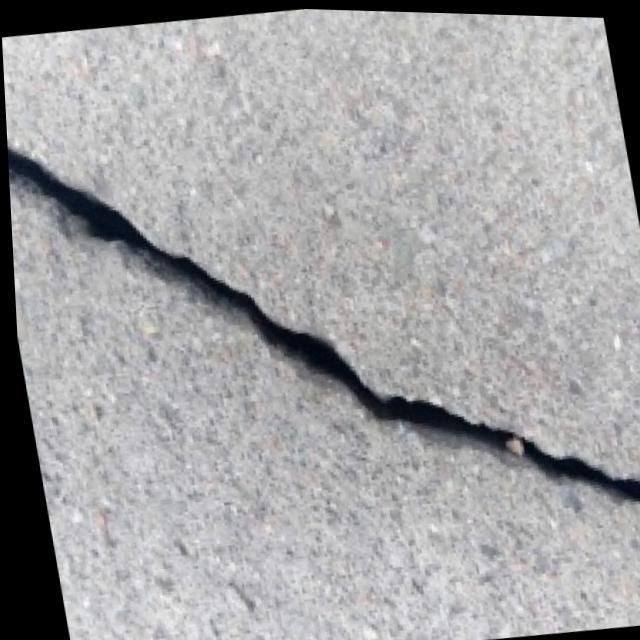Crack: (0, 1, 640, 640)
